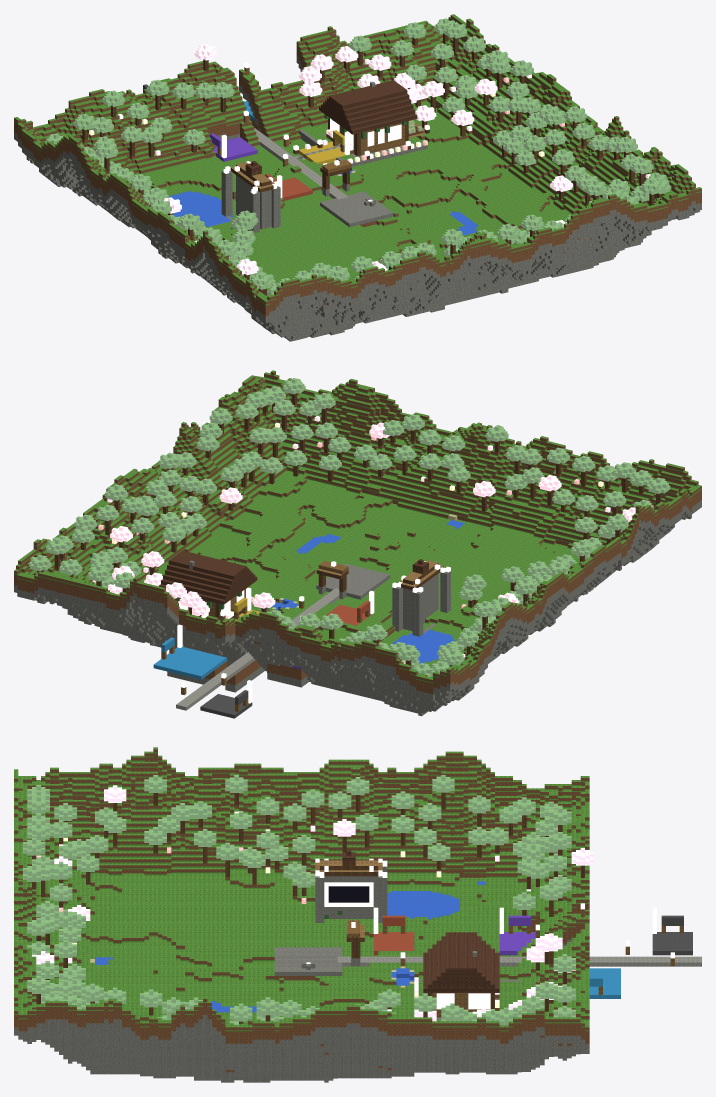
The model's file is world.glb.
3 views of the same model, one above another, from view 1: azimuth 30°, elevation 25°; view 2: azimuth 150°, elevation 25°; view 3: azimuth 270°, elevation 25° (orthographic). The views are drawn at different scales.
Visible parts, largest first — view 1: vox_mat_grass_top, vox_mat_grass_side, vox_mat_stone, vox_mat_leaves, vox_mat_dirt, vox_mat_log, vox_mat_blossom, vox_mat_roof, vox_mat_water, vox_mat_plank, vox_mat_path_stone, vox_mat_zone_stats (+4 smaller); view 2: vox_mat_grass_top, vox_mat_grass_side, vox_mat_leaves, vox_mat_stone, vox_mat_dirt, vox_mat_log, vox_mat_blossom, vox_mat_roof, vox_mat_water, vox_mat_zone_projects, vox_mat_path_stone, vox_mat_plank (+2 smaller); view 3: vox_mat_grass_top, vox_mat_grass_side, vox_mat_leaves, vox_mat_stone, vox_mat_dirt, vox_mat_log, vox_mat_roof, vox_mat_blossom, vox_mat_water, vox_mat_path_stone, vox_mat_plank, vox_mat_zone_mine (+8 smaller).
Boxes of the visible parts, bbox=[...] form: vox_mat_grass_top: bbox=[14, 14, 701, 301]; vox_mat_grass_side: bbox=[14, 15, 701, 305]; vox_mat_stone: bbox=[14, 56, 701, 341]; vox_mat_leaves: bbox=[45, 18, 671, 295]; vox_mat_dirt: bbox=[14, 19, 701, 315]; vox_mat_log: bbox=[82, 33, 662, 295]; vox_mat_blossom: bbox=[164, 44, 572, 275]; vox_mat_roof: bbox=[245, 80, 417, 172]; vox_mat_water: bbox=[169, 169, 478, 235]; vox_mat_plank: bbox=[143, 67, 404, 172]; vox_mat_path_stone: bbox=[254, 128, 348, 199]; vox_mat_zone_stats: bbox=[299, 130, 346, 164]; vox_mat_grass_top: bbox=[14, 370, 701, 679]; vox_mat_grass_side: bbox=[14, 371, 701, 683]; vox_mat_leaves: bbox=[28, 378, 670, 676]; vox_mat_stone: bbox=[14, 500, 701, 716]; vox_mat_dirt: bbox=[14, 375, 701, 695]; vox_mat_log: bbox=[37, 393, 661, 666]; vox_mat_blossom: bbox=[108, 422, 635, 616]; vox_mat_roof: bbox=[159, 550, 428, 604]; vox_mat_water: bbox=[272, 520, 465, 663]; vox_mat_zone_projects: bbox=[153, 637, 226, 679]; vox_mat_path_stone: bbox=[176, 588, 339, 710]; vox_mat_plank: bbox=[161, 561, 370, 712]; vox_mat_grass_top: bbox=[14, 747, 589, 1027]; vox_mat_grass_side: bbox=[14, 749, 589, 1031]; vox_mat_leaves: bbox=[23, 775, 575, 1025]; vox_mat_stone: bbox=[14, 866, 589, 1082]; vox_mat_dirt: bbox=[14, 753, 589, 1072]; vox_mat_log: bbox=[32, 792, 584, 1023]; vox_mat_roof: bbox=[342, 850, 499, 992]; vox_mat_blossom: bbox=[32, 785, 593, 1021]; vox_mat_water: bbox=[95, 881, 485, 1012]; vox_mat_path_stone: bbox=[337, 956, 701, 966]; vox_mat_plank: bbox=[346, 909, 683, 1017]; vox_mat_zone_mine: bbox=[652, 915, 692, 955].
Size of the model in its own units: 128 by 35 by 153.
Materials: 33 (33 with a texture image).
